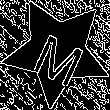M_NE: (26, 19, 88, 84)
